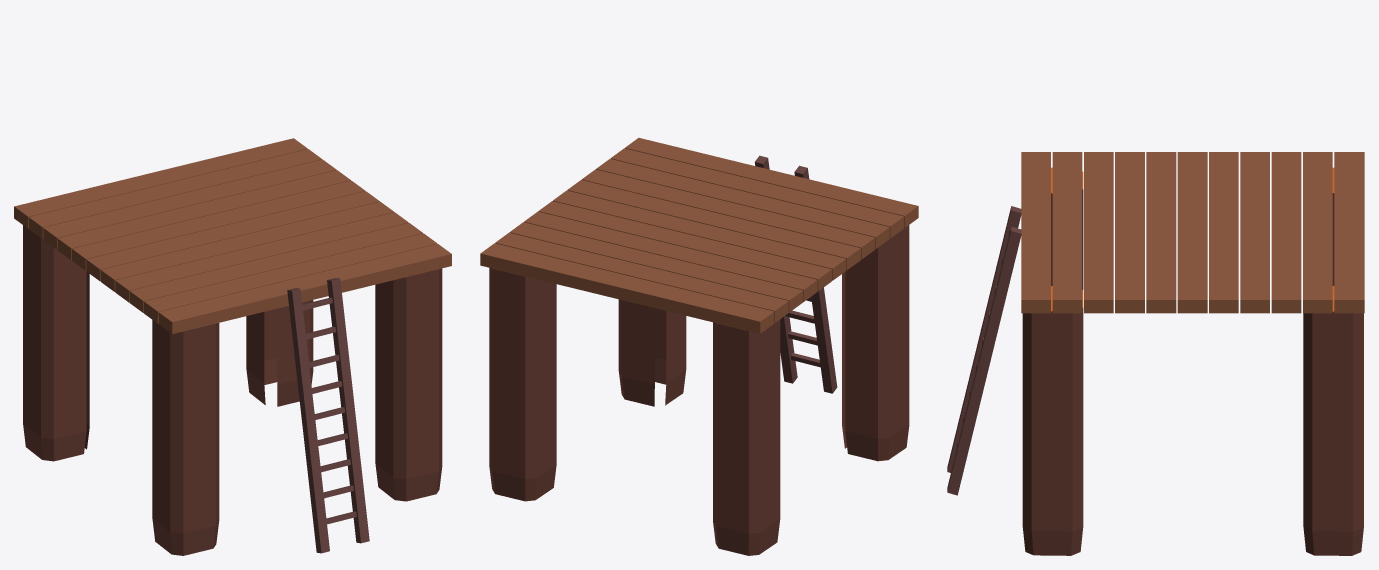
File: tower_wooden_open.fbx
3 views of the same model, side by side, from view 1: azimuth 30°, elevation 25°; view 2: azimuth 150°, elevation 25°; view 3: azimuth 270°, elevation 25° (orthographic). The views are drawn at different scales.
Parts seen in each view (by area): view 1: Cube.023, Cube.005; view 2: Cube.023, Cube.005; view 3: Cube.023, Cube.005.
Part boxes in pixels (bbox=[...]): Cube.023: bbox=[14, 138, 451, 555]; Cube.005: bbox=[287, 278, 369, 553]; Cube.023: bbox=[480, 137, 918, 555]; Cube.005: bbox=[754, 155, 837, 393]; Cube.023: bbox=[1021, 152, 1364, 555]; Cube.005: bbox=[947, 206, 1021, 495].
Bounding box in the file's own units: 250 × 317 × 298.
